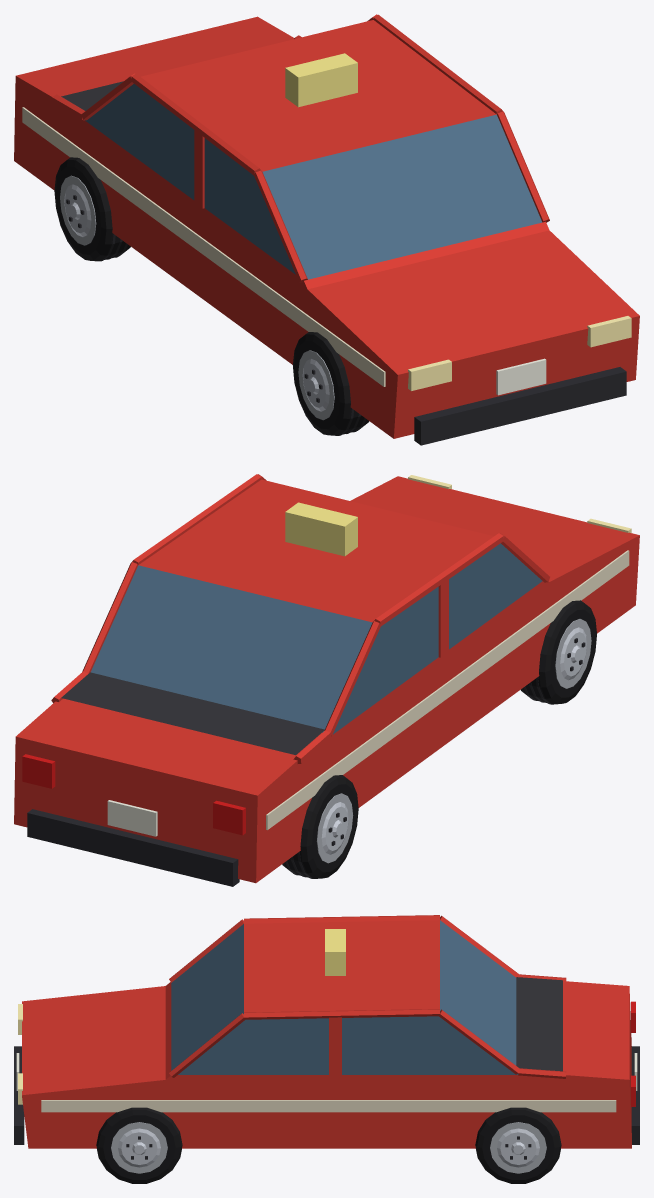
Rendered from vehicle_taxi.glb.
The picture shows the model from 3 angles, top to bottom: view 1: azimuth 30°, elevation 25°; view 2: azimuth 150°, elevation 25°; view 3: azimuth 270°, elevation 25°; orthographic projection. The views are drawn at different scales.
Visible parts, largest first — view 1: taxi_body, taxi_wheel_rr, taxi_wheel_fr, taxi_lining; view 2: taxi_body, taxi_lining, taxi_wheel_rr, taxi_wheel_fr; view 3: taxi_body, taxi_wheel_fl, taxi_wheel_rl, taxi_lining.
Part boxes in pixels (bbox=[...]): taxi_body: bbox=[14, 14, 639, 445]; taxi_wheel_rr: bbox=[54, 157, 130, 261]; taxi_wheel_fr: bbox=[293, 332, 369, 435]; taxi_lining: bbox=[61, 81, 123, 110]; taxi_body: bbox=[14, 474, 639, 886]; taxi_lining: bbox=[61, 672, 324, 755]; taxi_wheel_rr: bbox=[282, 775, 358, 878]; taxi_wheel_fr: bbox=[521, 600, 596, 704]; taxi_body: bbox=[14, 915, 639, 1148]; taxi_wheel_fl: bbox=[96, 1107, 182, 1183]; taxi_wheel_rl: bbox=[475, 1107, 561, 1183]; taxi_lining: bbox=[516, 977, 562, 1071].
Bounding box in the file's own units: 1.87 × 1.66 × 4.79.
